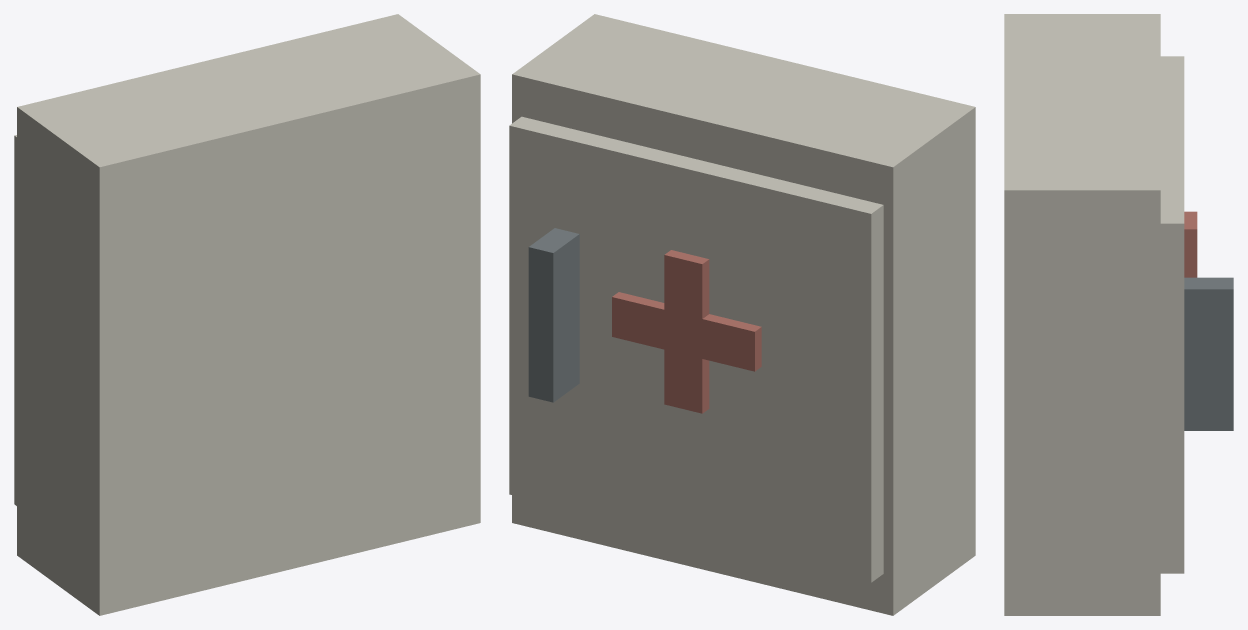
The model's file is first_aid_wall_box.glb.
3 views of the same model, side by side, from view 1: azimuth 30°, elevation 25°; view 2: azimuth 150°, elevation 25°; view 3: azimuth 270°, elevation 25° (orthographic). The views are drawn at different scales.
Parts seen in each view (by area): view 1: body, door_left; view 2: door_left, body; view 3: body, door_left.
Part boxes in pixels (x1,y1,x2,y2): body: (17, 14, 480, 615); door_left: (14, 135, 16, 505); door_left: (509, 116, 883, 582); body: (512, 14, 975, 615); body: (1004, 14, 1160, 615); door_left: (1160, 56, 1233, 573).
Bounding box in the file's own units: 0.4 × 0.45 × 0.22.
